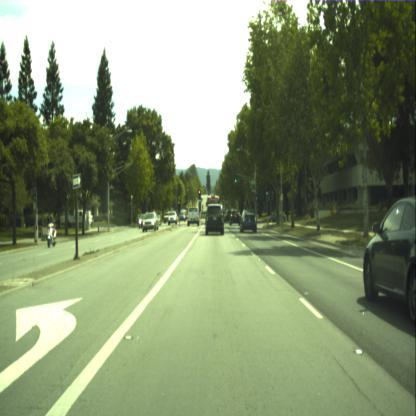Green: (266, 186, 268, 194), (235, 174, 236, 182), (256, 194, 257, 199)
Red: (177, 200, 180, 211), (198, 190, 200, 198)
